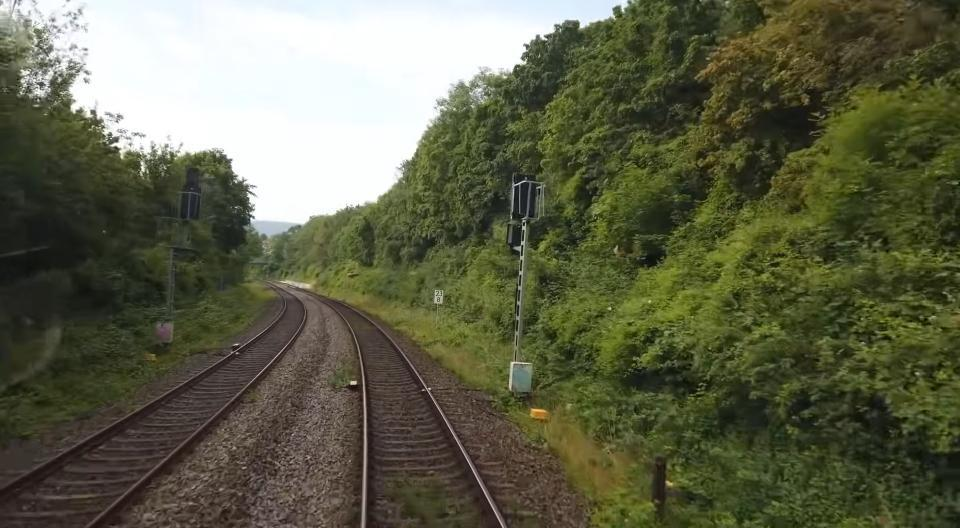Plant: (381, 474, 483, 528), (328, 369, 350, 389), (513, 517, 545, 528), (243, 388, 261, 404)
